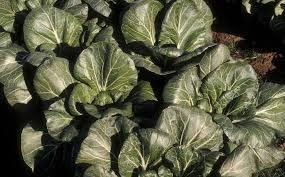Healthy-Pechay: (50, 3, 207, 174), (182, 73, 285, 177), (0, 0, 70, 109), (19, 119, 63, 173), (185, 43, 229, 75), (221, 57, 255, 84)
